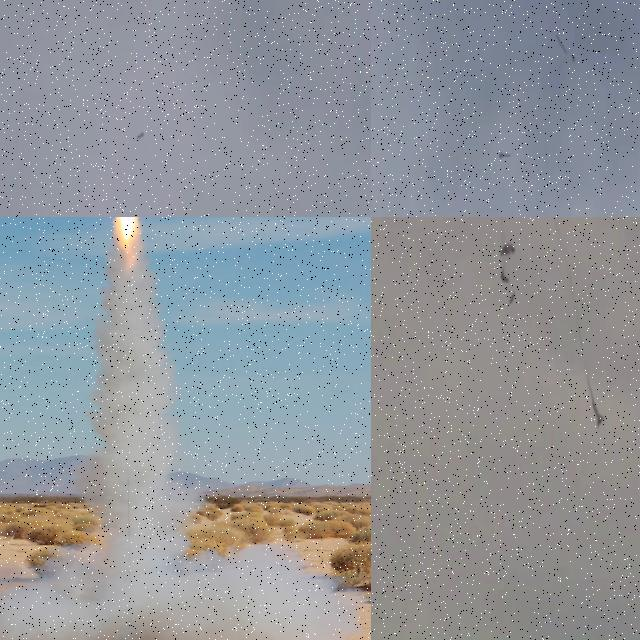Rocket: (591, 397, 605, 429), (499, 151, 511, 160), (136, 131, 144, 140)
